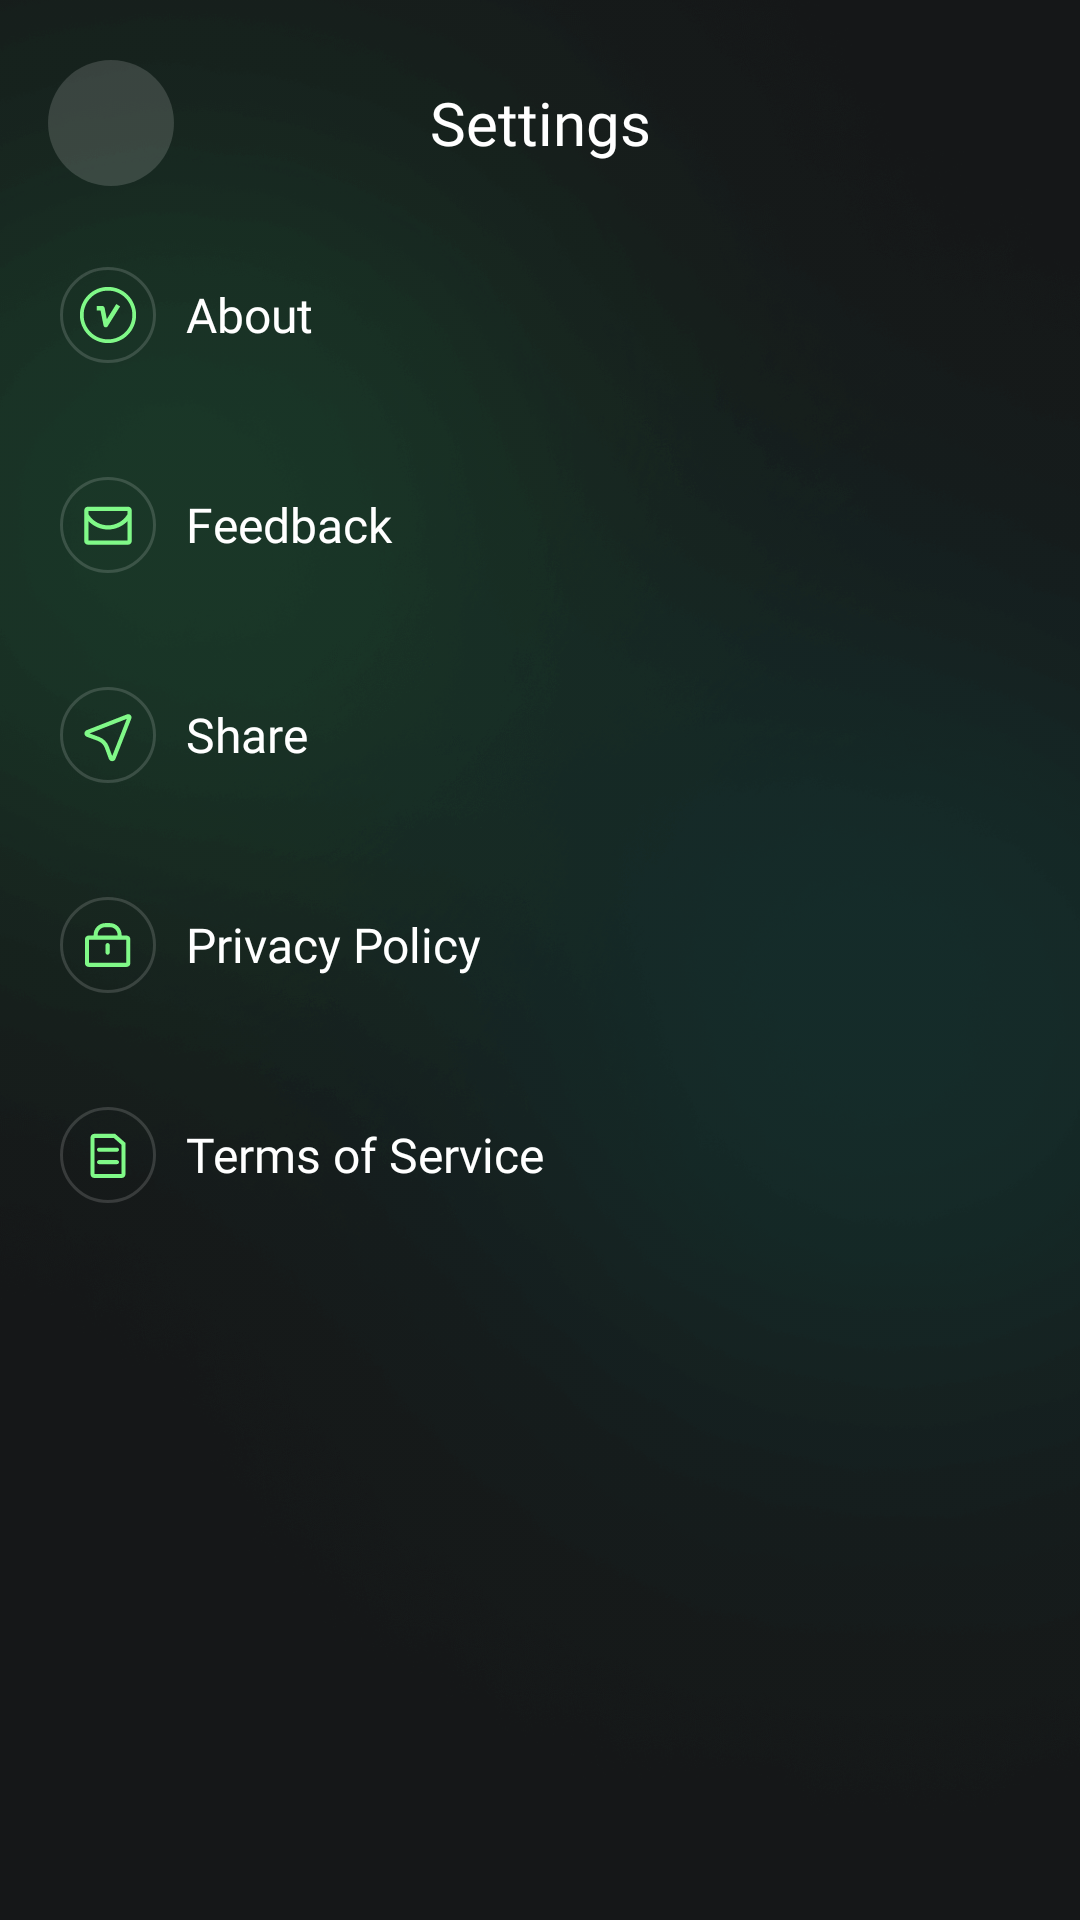

Screen size 1080 x 1920. Icon name, then its center in pixels as (x=x, y=y):
tos: (x=108, y=1155)
